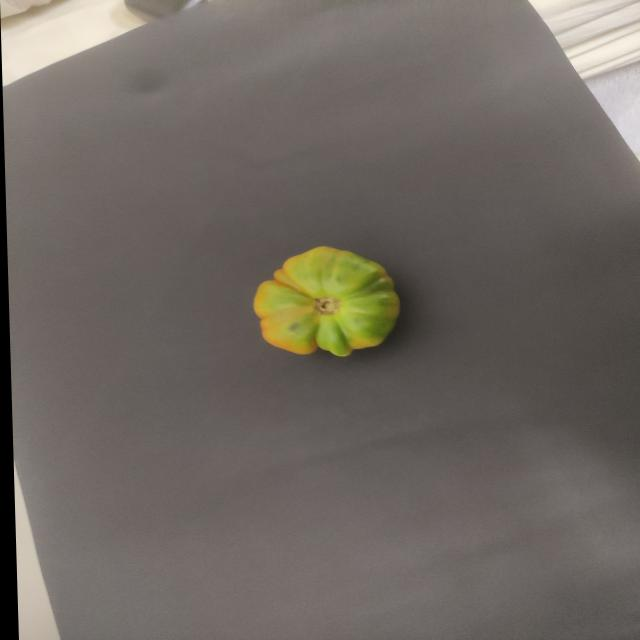yesil: (234, 242, 418, 364)
